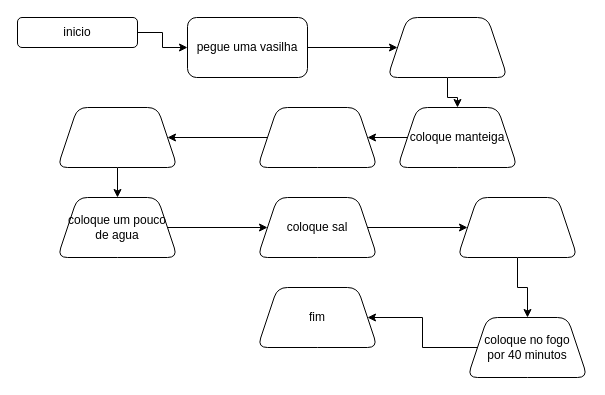
Image size: 605x395. Some labels were removed from this diagram. Here are the shapes that lost their labels. From the top down, the box of each, then its label:
(386, 16, 508, 78): coloque 2 ovos
(56, 106, 178, 168): coloque trigo
(256, 106, 378, 168): coloque acucar
(456, 196, 578, 258): mexa tudo
